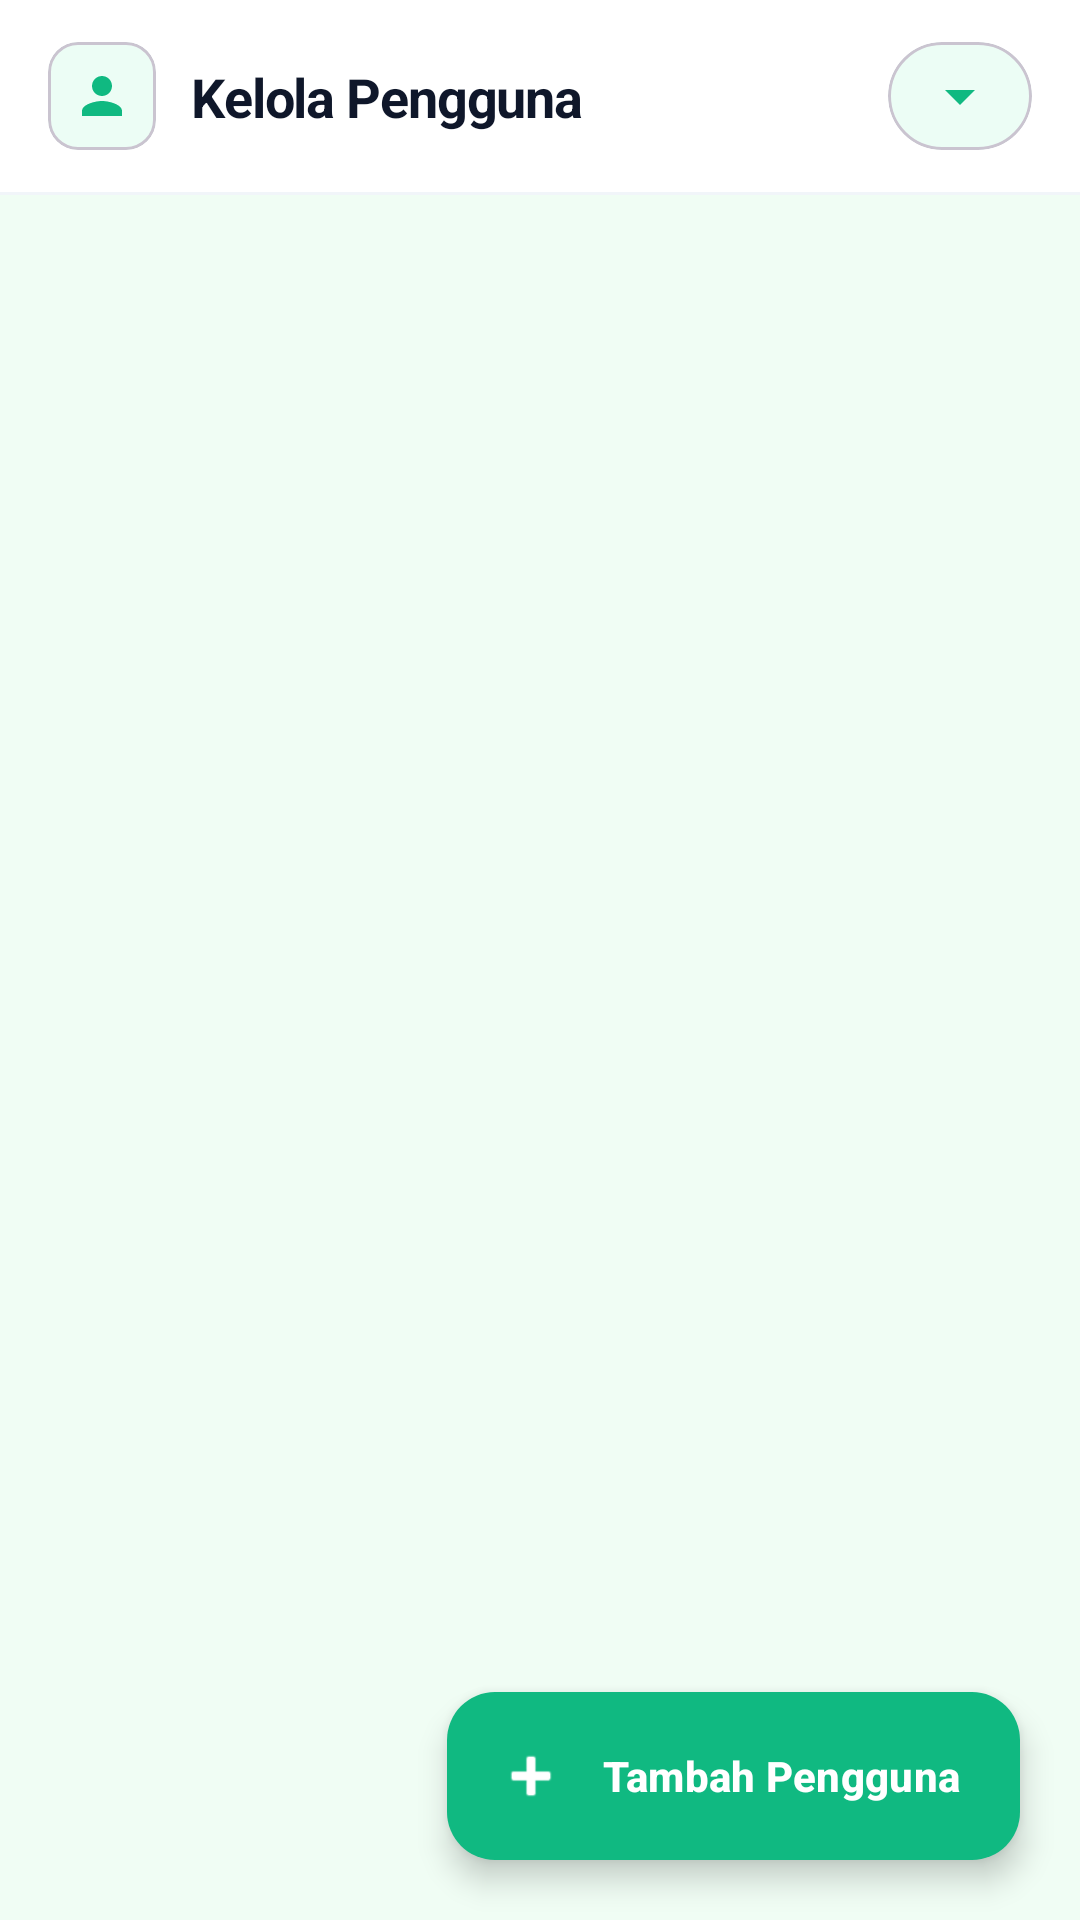

Icons on this 1080x1920 Android screen, each with its box as (x1, y1, x2, y2):
person: (82, 76, 122, 116)
